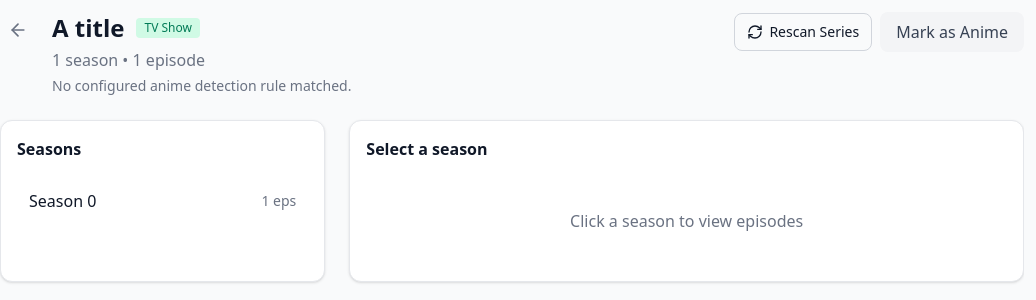
Test case: marks and unmarks tv consistently and refreshes aggregates
Step 1. Click the button "Mark as Anime" → (952, 32), box x1=880 y1=12 x2=1024 y2=52
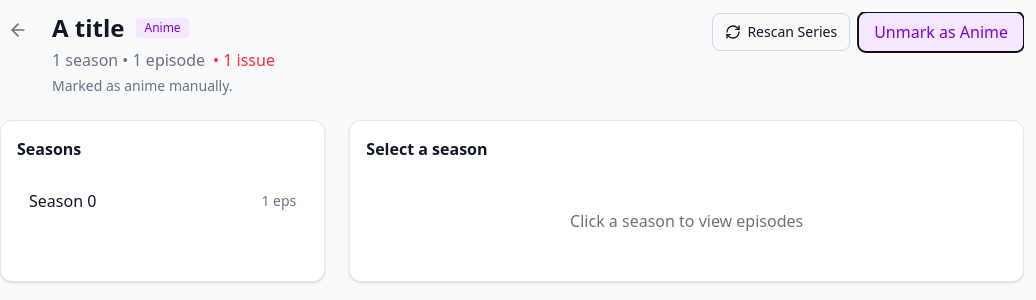
expect the text "Anime" is shown: met, box x1=136 y1=18 x2=189 y2=38
expect the text named "Classification reason" reads "Marked as anime manually.": met, box x1=52 y1=76 x2=233 y2=95
expect the text "• 1 issue" is shown: met, box x1=213 y1=49 x2=275 y2=71
Step 2. Click the button "Unmark as Anime" → (941, 32), box x1=858 y1=12 x2=1024 y2=52
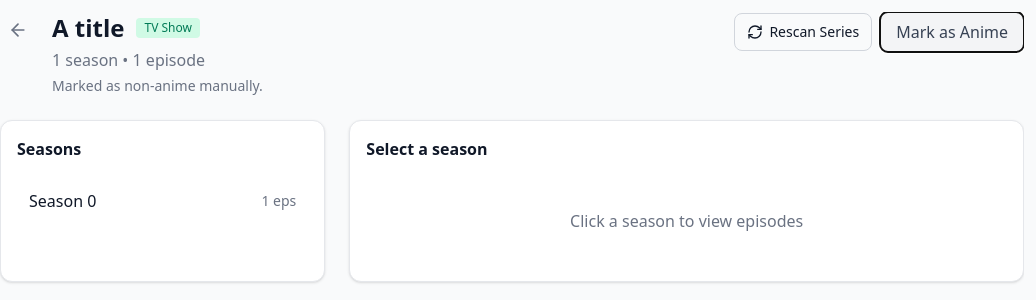
expect the text "TV Show" is shown: met, box x1=136 y1=18 x2=200 y2=38
expect the text named "Classification reason" reads "Marked as non-anime manually.": met, box x1=52 y1=76 x2=263 y2=95
expect the text "• 1 issue" is gone: met
